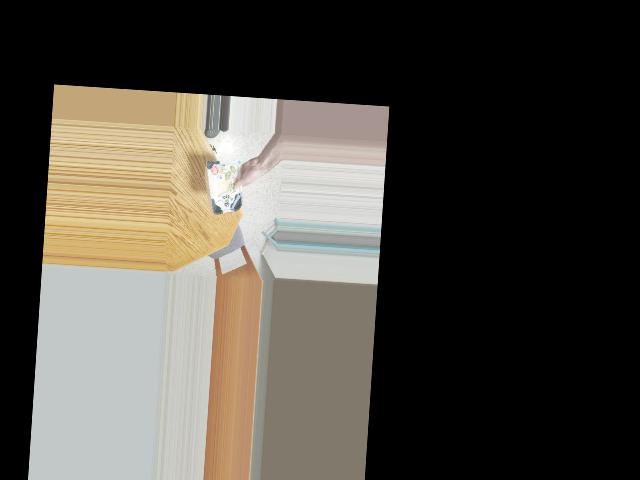cheese: (202, 159, 246, 215)
